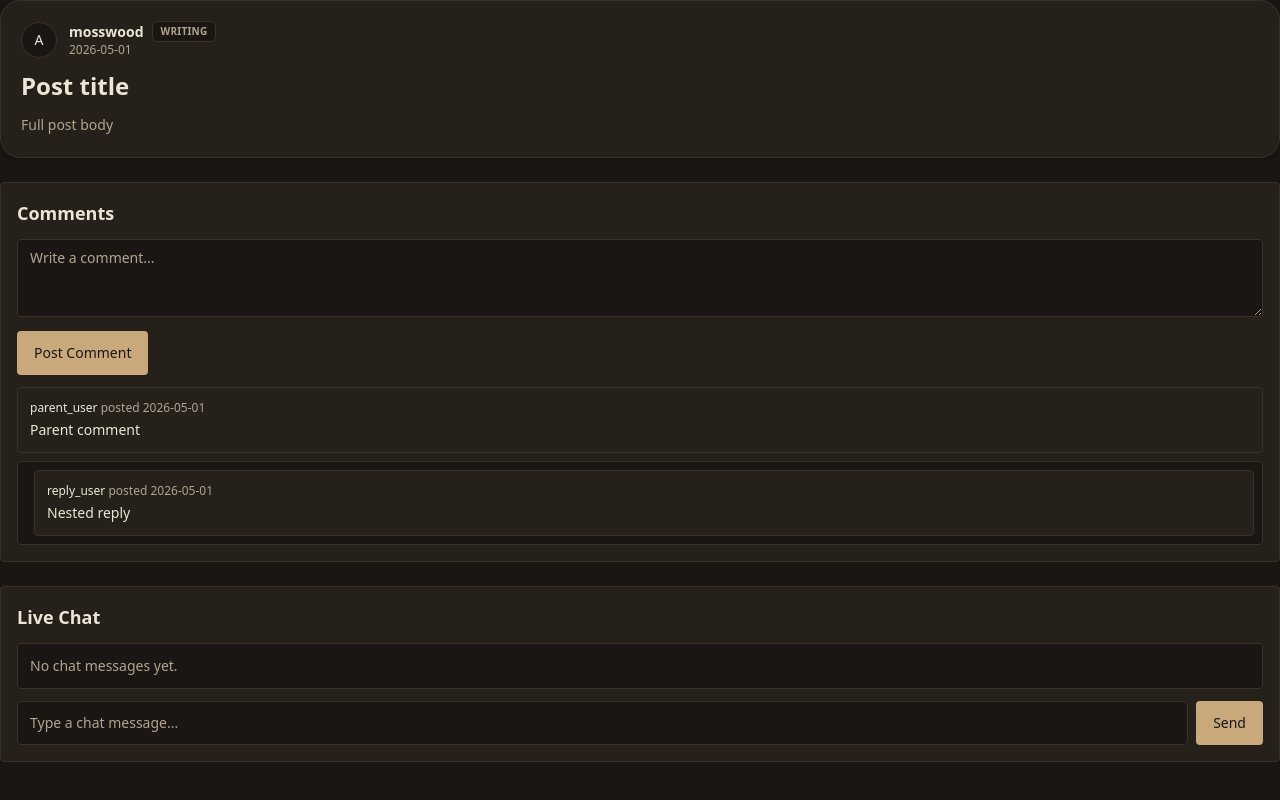
Test case: PostDetailPage › opens websocket for authenticated users and sends messages
Expected: the heading "Post title" is shown, [21, 69, 129, 102]
Type "Hello room" into the field with placeholder "Type a chat message..." at (603, 723), box [17, 701, 1188, 745]
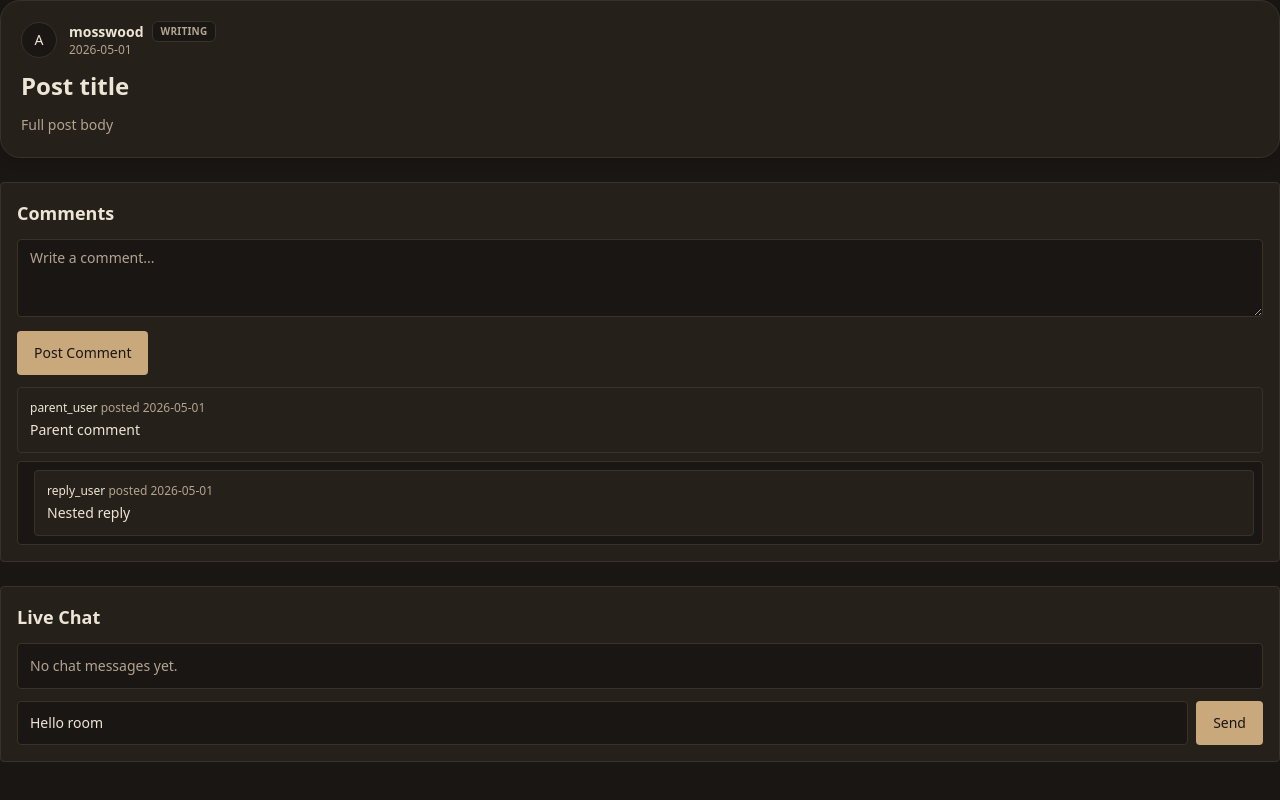
Click the button "Send" at (1230, 723), box [1196, 701, 1263, 745]
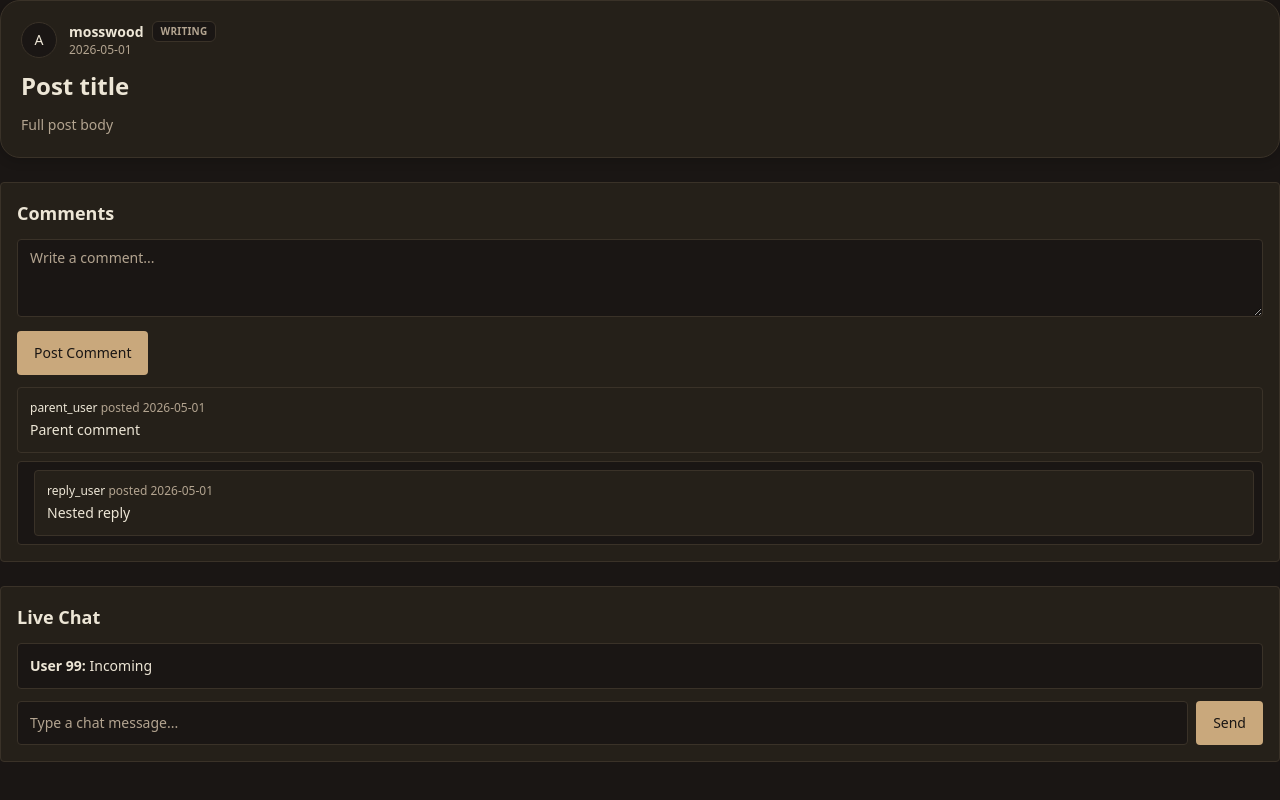
Expected: the text "User 99: Incoming" is shown, [30, 656, 152, 675]
